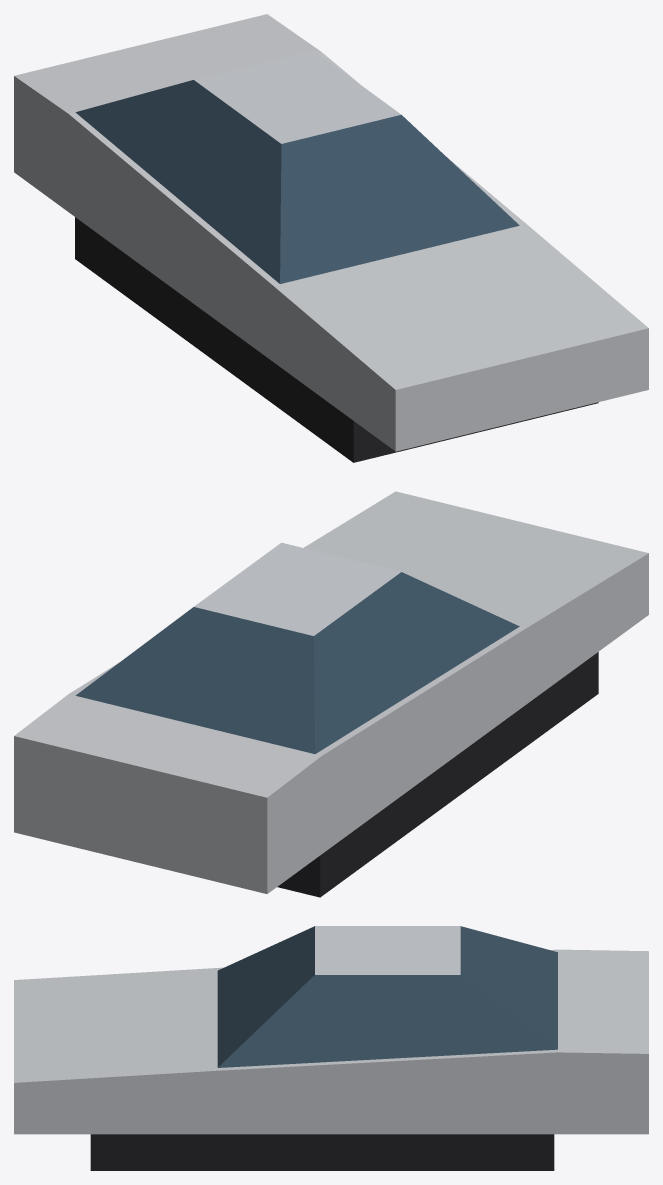
File: 359_far.fbx
The picture shows the model from 3 angles, top to bottom: view 1: azimuth 30°, elevation 25°; view 2: azimuth 150°, elevation 25°; view 3: azimuth 270°, elevation 25°; orthographic projection. The views are drawn at different scales.
Visible parts, largest first — view 1: 359_far; view 2: 359_far; view 3: 359_far.
Part boxes in pixels (left/top/right/bottom): 359_far: left=14, top=14, right=648, bottom=462; 359_far: left=14, top=491, right=648, bottom=897; 359_far: left=14, top=926, right=648, bottom=1170.
Bounding box in the file's own units: 1.9 × 1.47 × 4.96.
